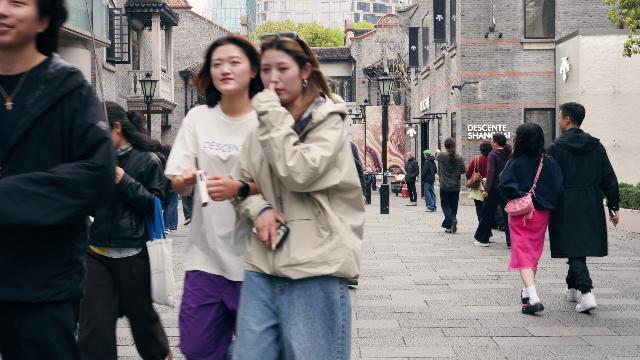person: (228, 33, 368, 360), (0, 0, 116, 360), (164, 34, 274, 360), (81, 102, 175, 360), (545, 101, 622, 314), (499, 122, 564, 314), (473, 132, 512, 246), (434, 137, 468, 234), (466, 141, 495, 232), (421, 149, 438, 212), (404, 151, 421, 206)
